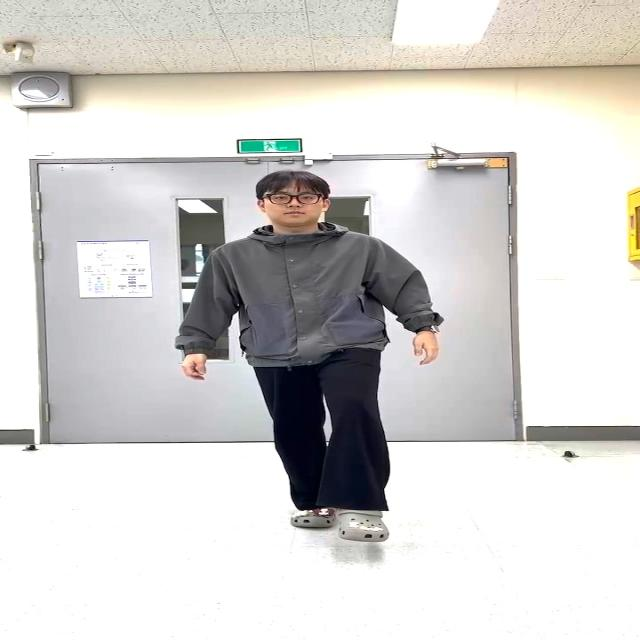leg: (298, 339, 405, 541)
